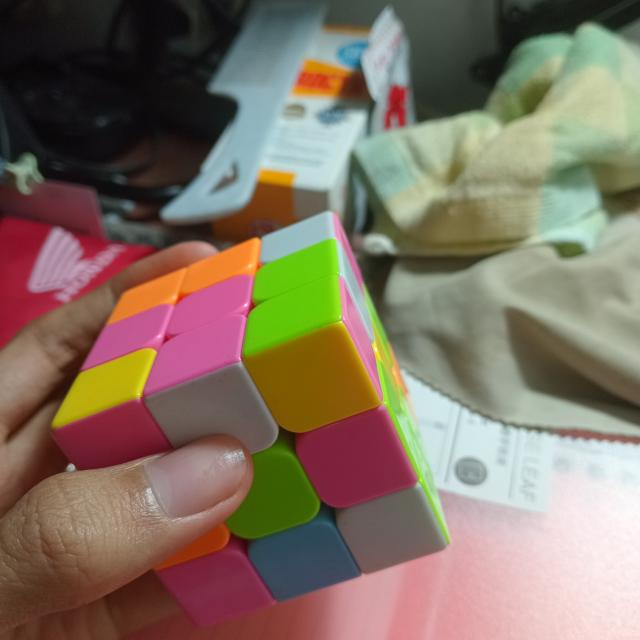front: (53, 321, 448, 629)
right: (51, 211, 342, 430)
rubik: (46, 206, 454, 632)
